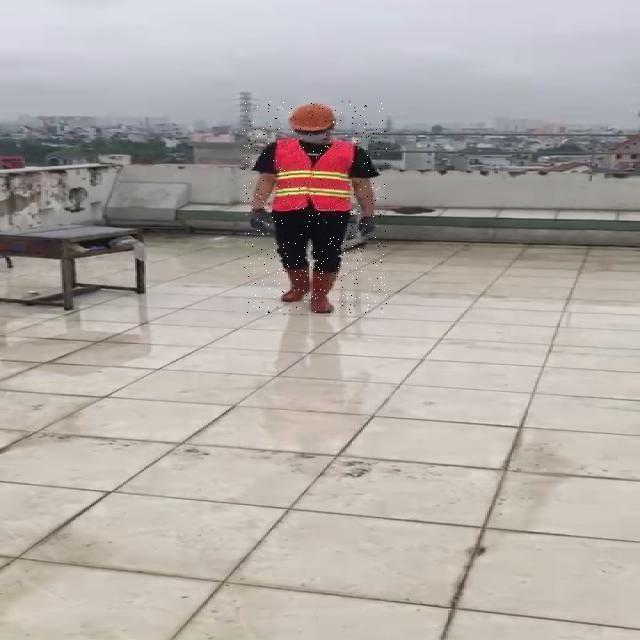gloves: (245, 207, 274, 235), (354, 212, 379, 242)
goggles: (291, 127, 335, 136)
helmet: (289, 102, 338, 127)
safety_vest: (270, 138, 355, 213)
